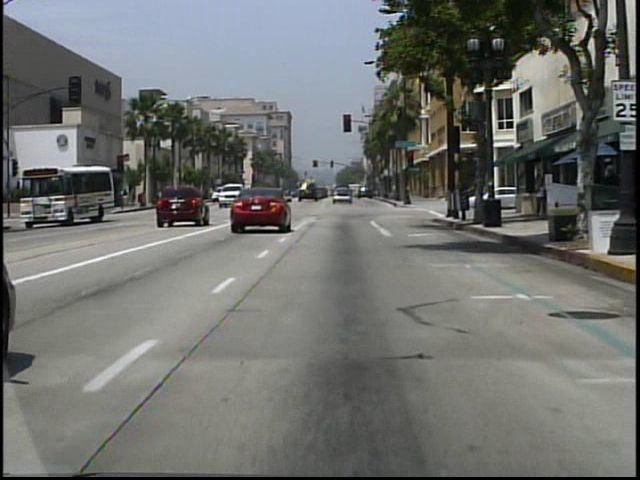person: (531, 174, 545, 219)
